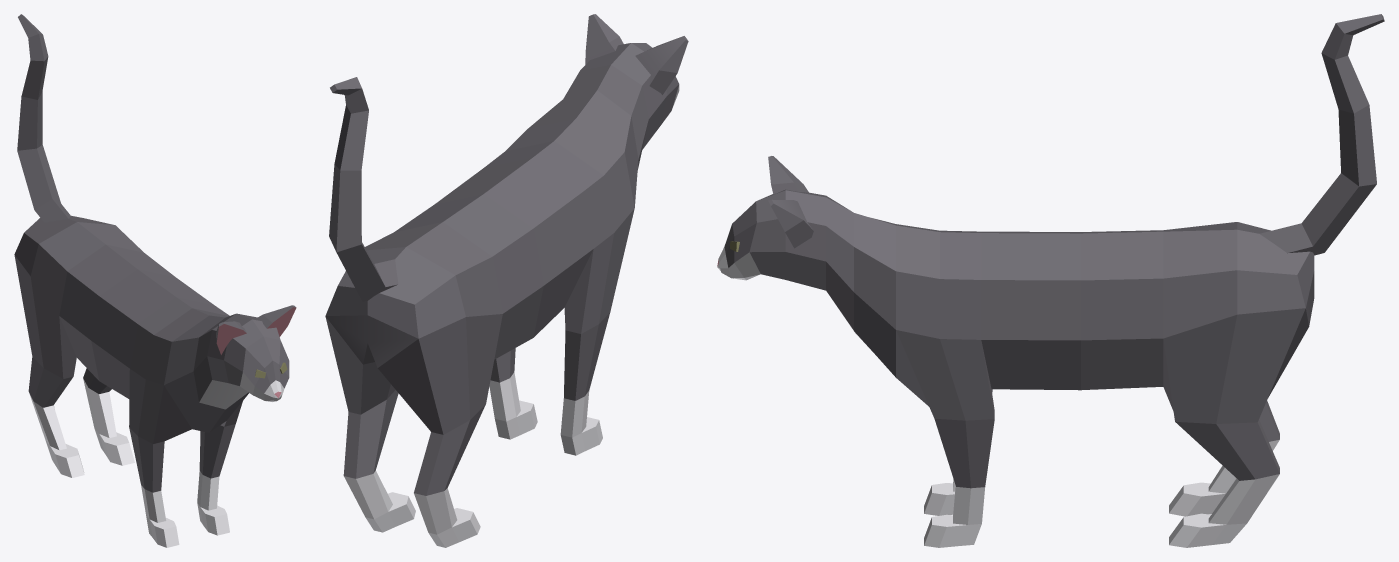
File: Cat.gltf
The picture shows the model from 3 angles, left to right: view 1: azimuth 30°, elevation 25°; view 2: azimuth 150°, elevation 25°; view 3: azimuth 270°, elevation 25°; orthographic projection. The views are drawn at different scales.
Parts seen in each view (by area): view 1: Geo_Cat; view 2: Geo_Cat; view 3: Geo_Cat.
Boxes of the visible parts, bbox=[...] form: Geo_Cat: bbox=[14, 14, 296, 547]; Geo_Cat: bbox=[325, 14, 688, 547]; Geo_Cat: bbox=[717, 14, 1384, 547].
Size of the model in its own units: 17.49 by 71.29 by 84.26.
Materials: 1 (1 with a texture image).
